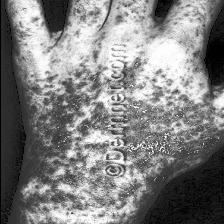Non-Cancerous Skin Condition: (122, 0, 224, 182), (36, 53, 90, 173), (24, 182, 124, 224)
